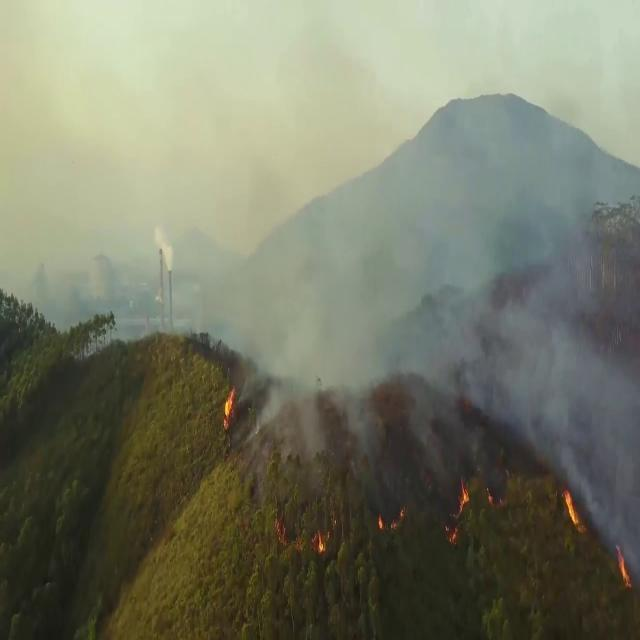Fire: (444, 476, 470, 545), (561, 484, 589, 536), (377, 503, 407, 532), (614, 542, 632, 590), (222, 384, 236, 431), (316, 532, 326, 556)
Smoke: (1, 90, 640, 590)
